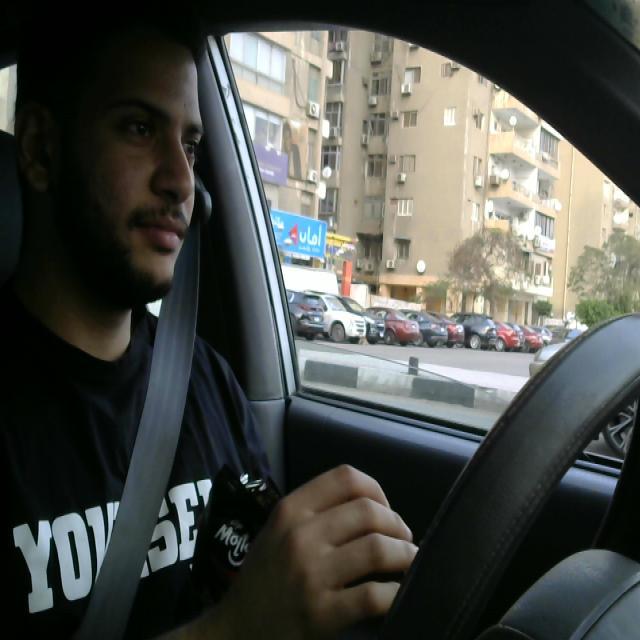eating: (191, 455, 289, 640)
